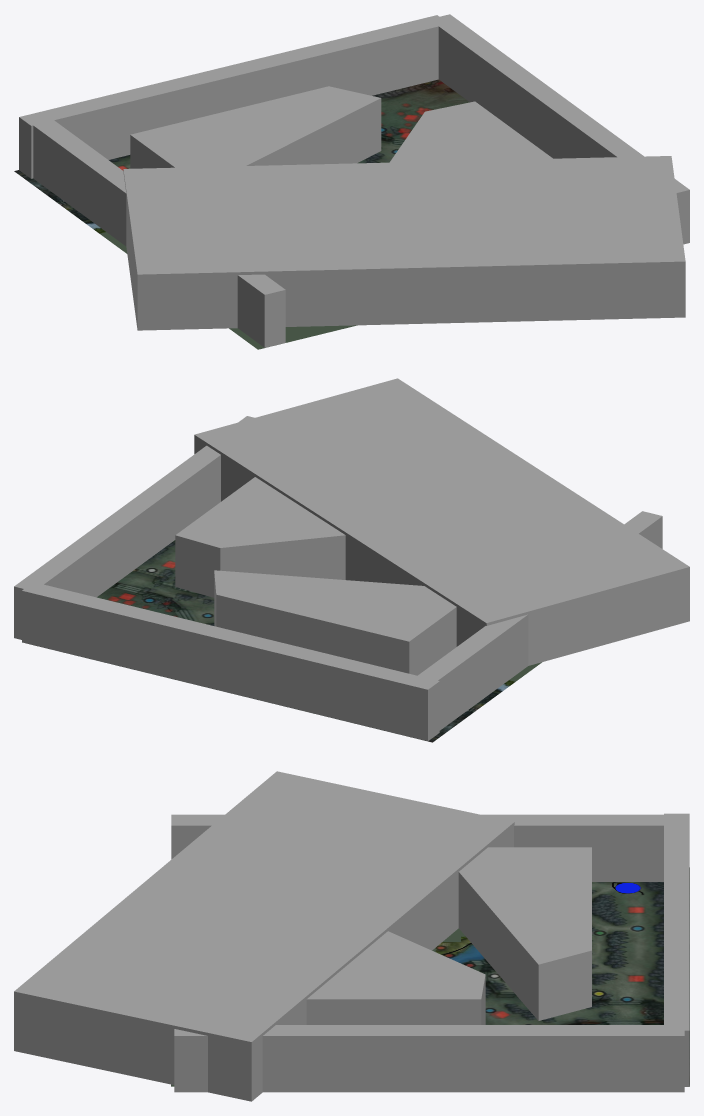
Rendered from GrayboxLevelMesh.fbx.
3 views of the same model, one above another, from view 1: azimuth 30°, elevation 25°; view 2: azimuth 150°, elevation 25°; view 3: azimuth 270°, elevation 25° (orthographic). The views are drawn at different scales.
Parts seen in each view (by area): view 1: GrayBoxMesh006, GrayBoxMesh002, GrayBoxMesh004, GrayBoxMesh003, GrayBoxMesh001, GrayBoxMesh005, GrayBoxPlaneMesh; view 2: GrayBoxMesh006, GrayBoxMesh002, GrayBoxMesh004, GrayBoxMesh005, GrayBoxMesh003, GrayBoxMesh001, GrayBoxPlaneMesh; view 3: GrayBoxMesh006, GrayBoxMesh003, GrayBoxMesh004, GrayBoxPlaneMesh, GrayBoxMesh005, GrayBoxMesh001, GrayBoxMesh002.
Part boxes in pixels (box(x1,y1,x2,y2)): GrayBoxMesh006: box(123, 156, 685, 330); GrayBoxMesh002: box(19, 15, 448, 178); GrayBoxMesh004: box(130, 86, 381, 168); GrayBoxMesh003: box(430, 14, 689, 244); GrayBoxMesh001: box(24, 113, 285, 347); GrayBoxMesh005: box(389, 101, 552, 162); GrayBoxPlaneMesh: box(14, 79, 469, 349); GrayBoxMesh006: box(194, 378, 689, 665); GrayBoxMesh002: box(22, 582, 439, 741); GrayBoxMesh004: box(214, 570, 456, 675); GrayBoxMesh005: box(175, 477, 345, 597); GrayBoxMesh003: box(14, 416, 254, 639); GrayBoxMesh001: box(408, 511, 662, 730); GrayBoxPlaneMesh: box(22, 540, 541, 742); GrayBoxMesh006: box(14, 771, 514, 1101); GrayBoxMesh003: box(174, 1025, 684, 1092); GrayBoxMesh004: box(458, 847, 591, 1020); GrayBoxPlaneMesh: box(171, 867, 689, 1086); GrayBoxMesh005: box(306, 931, 485, 1024); GrayBoxMesh001: box(171, 814, 684, 881); GrayBoxMesh002: box(664, 813, 689, 1086).
Bounding box in the file's own units: 35316 × 3620 × 37242.
